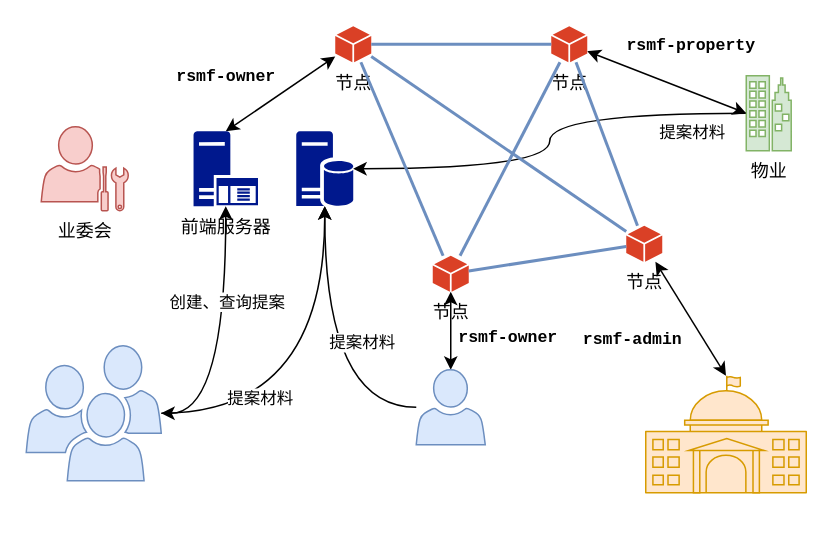
The diagram is 833 pixels wide and 549 high, and some of its shapes have lost their labels. The box of each missing label's shape, as (x1, y1, x2, y2) in pixels:
业主 (无结点): (25, 344, 161, 481)
业主 (自建结点): (415, 368, 485, 445)
房管局: (644, 374, 806, 493)
文件服务器: (296, 130, 352, 206)
